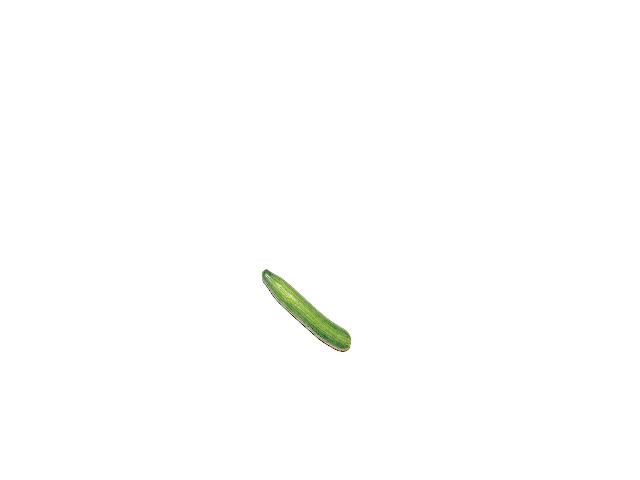cucumber: (262, 269, 351, 351)
